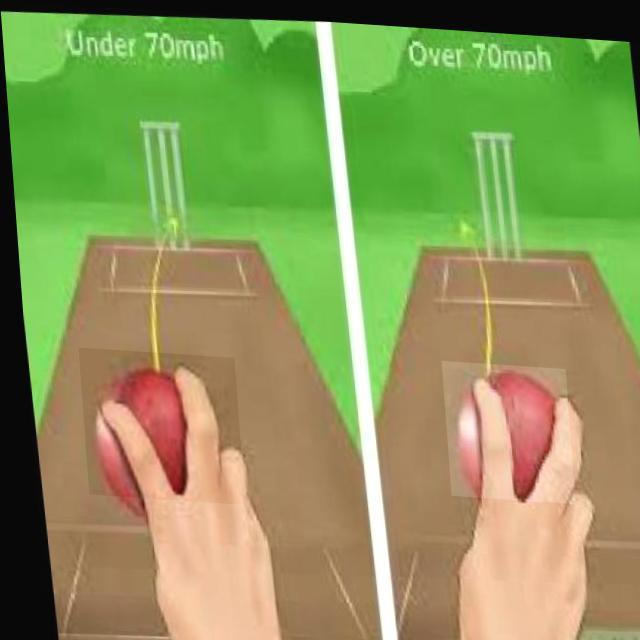-: (73, 347, 238, 502), (436, 355, 568, 496)
